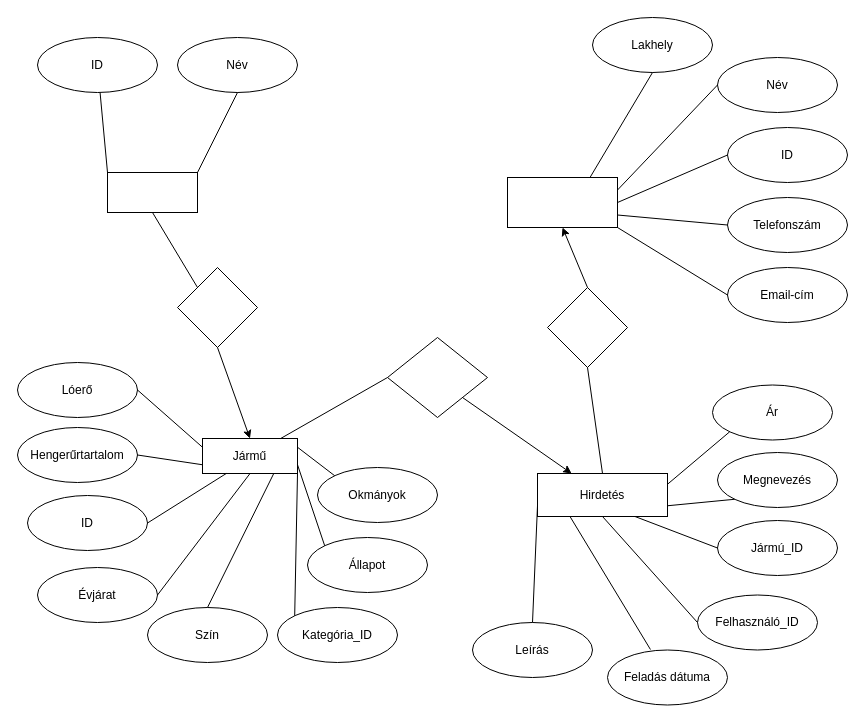
This 865x723 diagram has some shape labels left out. Here are the shapes that lost their labels. From the top down, the centre of each, then its label:
At (x=152, y=192): "Kategória".
At (x=562, y=202): "Felhasználó".
At (x=217, y=307): "Beazonosítja".
At (x=587, y=327): "Feladja a hirdetést".
At (x=437, y=377): "Tartalmazza az adatokat".
